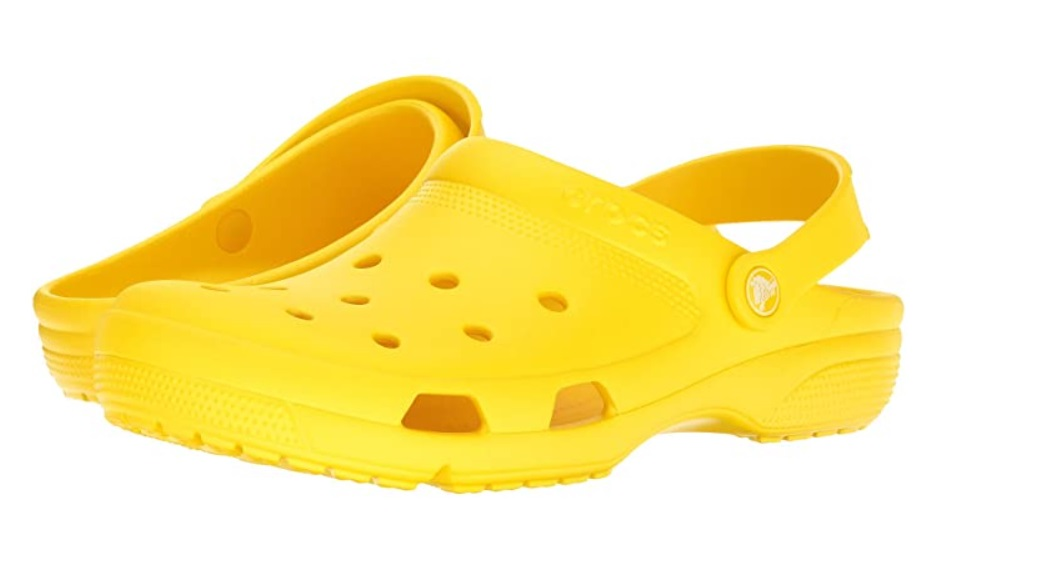Yellow: (31, 70, 904, 495)
